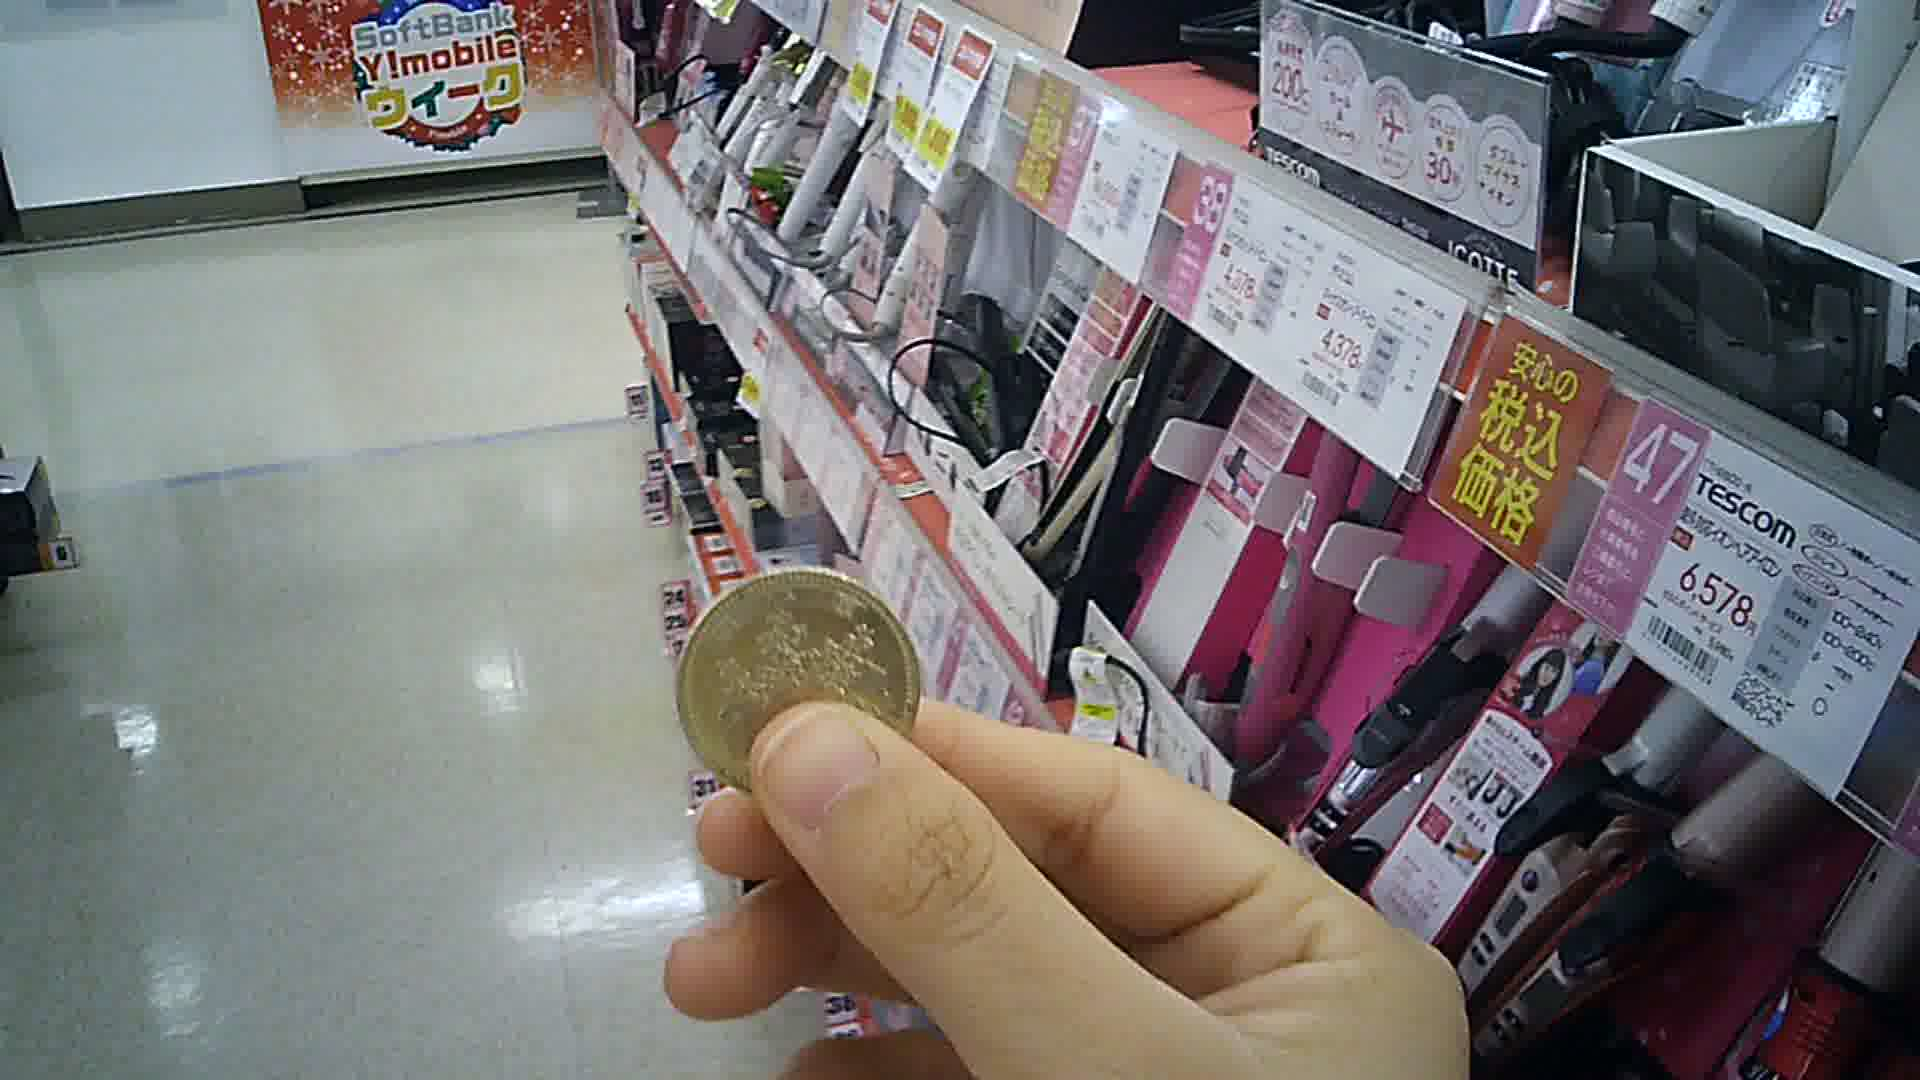500 Yen: (667, 568, 920, 812)
